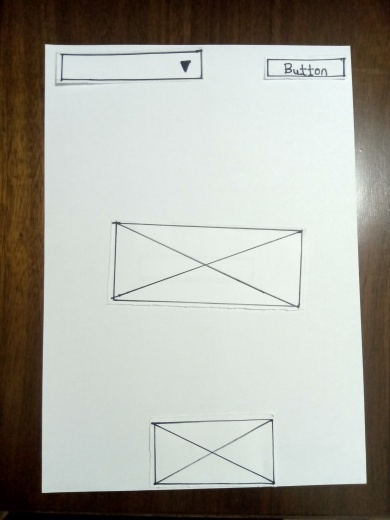button: (266, 60, 347, 79)
dropdown: (58, 54, 200, 82)
img: (117, 221, 303, 310), (152, 418, 277, 481)
